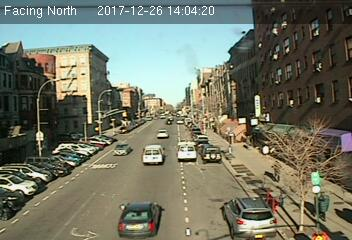car: (222, 197, 277, 237), (117, 201, 160, 237), (203, 145, 223, 163), (112, 143, 132, 156), (156, 129, 169, 138)
truck: (141, 144, 165, 167), (177, 143, 197, 163)
